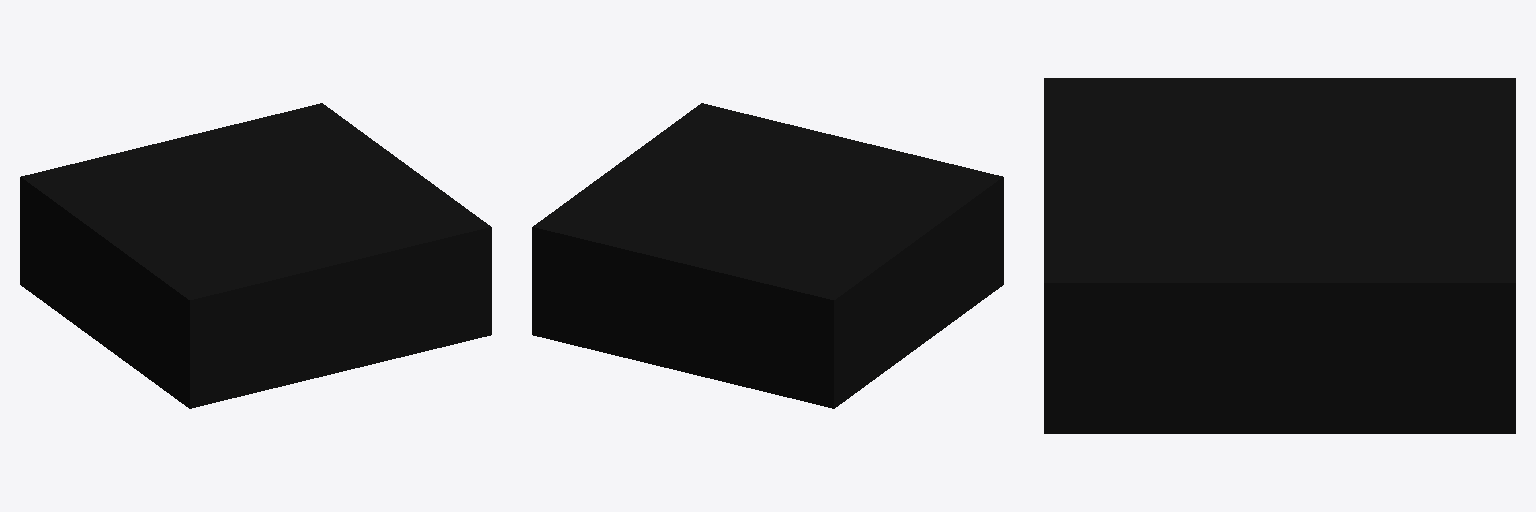
The robot description file, URDF, robot "rosmaster_x3":
<?xml version="1.0" ?>
<!-- =================================================================================== -->
<!-- |    This document was autogenerated by xacro from rosmaster_x3.urdf.xacro        | -->
<!-- |    EDITING THIS FILE BY HAND IS NOT RECOMMENDED                                 | -->
<!-- =================================================================================== -->
<robot name="rosmaster_x3">
  <link name="hi/base_footprint"/>
  <link name="hi/base_link">
    <visual>
      <geometry>
        <mesh filename="file://[local-path]/ros2_ws/install/yahboom_rosmaster_description/share/yahboom_rosmaster_description/meshes/rosmaster_x3/visual/base_link_X3.STL"/>
      </geometry>
      <material name="green">
        <color rgba="0 0.7 0 1"/>
      </material>
      <origin rpy="0 0 0" xyz="0 0 0"/>
    </visual>
    <collision>
      <geometry>
        <box size="0.3 0.1386 0.19724999999999998"/>
      </geometry>
      <origin rpy="0 0 0" xyz="-0.031 0 0.10674999999999998"/>
    </collision>
    <inertial>
      <origin rpy="0 0 0" xyz="-0.031 0 0.10674999999999998"/>
      <mass value="4.6"/>
      <inertia ixx="0.022278383624999995" ixy="0.0" ixz="0.0" iyy="0.04941456562499999" iyz="0.0" izz="0.041863818"/>
    </inertial>
  </link>
  <gazebo reference="hi/base_link">
    <visual>
      <material>
        <ambient>0 0.7 0 1</ambient>
        <diffuse>0 0.7 0 1</diffuse>
        <specular>0 0.7 0 1</specular>
      </material>
    </visual>
  </gazebo>
  <joint name="hi/base_joint" type="fixed">
    <parent link="hi/base_footprint"/>
    <child link="hi/base_link"/>
    <origin rpy="0 0 0" xyz="0 0 0.0325"/>
  </joint>
  <link name="hi/front_left_wheel_link">
    <visual>
      <origin rpy="1.5707963267948966 0 0" xyz="0 0 0"/>
      <geometry>
        <mesh filename="file://[local-path]/ros2_ws/install/yahboom_rosmaster_description/share/yahboom_rosmaster_description/meshes/rosmaster_x3/visual/front_left_wheel_X3.STL"/>
      </geometry>
      <material name="dark_gray">
        <color rgba="0.2 0.2 0.2 1.0"/>
      </material>
    </visual>
    <collision>
      <origin rpy="1.5707963267948966 0 0" xyz="0 0 0"/>
      <geometry>
        <cylinder length="0.0304" radius="0.0325"/>
      </geometry>
    </collision>
    <inertial>
      <origin rpy="0 0 0" xyz="0 0 0"/>
      <mass value="9.1"/>
      <inertia ixx="0.0031037900833333332" ixy="0" ixz="0" iyy="0.0048059375" iyz="0" izz="0.0031037900833333332"/>
    </inertial>
  </link>
  <joint name="hi/front_left_wheel_joint" type="continuous">
    <axis xyz="0 1 0"/>
    <parent link="hi/base_link"/>
    <child link="hi/front_left_wheel_link"/>
    <origin rpy="0 0 0" xyz="0.08 0.07450000000000001 -0.0325"/>
  </joint>
  <gazebo reference="hi/front_left_wheel_link">
    <surface>
      <friction>
        <ode>
          <mu>1.0</mu>
          <mu2>0.0</mu2>
        </ode>
      </friction>
    </surface>
    <visual>
      <material>
        <ambient>0.2 0.2 0.2 1.0</ambient>
        <diffuse>0.2 0.2 0.2 1.0</diffuse>
        <specular>0.2 0.2 0.2 1.0</specular>
        <emissive>0.0 0.0 0.0 0.0</emissive>
      </material>
    </visual>
  </gazebo>
  <link name="hi/front_right_wheel_link">
    <visual>
      <origin rpy="1.5707963267948966 0 0" xyz="0 0 0"/>
      <geometry>
        <mesh filename="file://[local-path]/ros2_ws/install/yahboom_rosmaster_description/share/yahboom_rosmaster_description/meshes/rosmaster_x3/visual/front_right_wheel_X3.STL"/>
      </geometry>
      <material name="dark_gray">
        <color rgba="0.2 0.2 0.2 1.0"/>
      </material>
    </visual>
    <collision>
      <origin rpy="1.5707963267948966 0 0" xyz="0 0 0"/>
      <geometry>
        <cylinder length="0.0304" radius="0.0325"/>
      </geometry>
    </collision>
    <inertial>
      <origin rpy="0 0 0" xyz="0 0 0"/>
      <mass value="9.1"/>
      <inertia ixx="0.0031037900833333332" ixy="0" ixz="0" iyy="0.0048059375" iyz="0" izz="0.0031037900833333332"/>
    </inertial>
  </link>
  <joint name="hi/front_right_wheel_joint" type="continuous">
    <axis xyz="0 1 0"/>
    <parent link="hi/base_link"/>
    <child link="hi/front_right_wheel_link"/>
    <origin rpy="0 0 0" xyz="0.08 -0.07450000000000001 -0.0325"/>
  </joint>
  <gazebo reference="hi/front_right_wheel_link">
    <surface>
      <friction>
        <ode>
          <mu>1.0</mu>
          <mu2>0.0</mu2>
        </ode>
      </friction>
    </surface>
    <visual>
      <material>
        <ambient>0.2 0.2 0.2 1.0</ambient>
        <diffuse>0.2 0.2 0.2 1.0</diffuse>
        <specular>0.2 0.2 0.2 1.0</specular>
        <emissive>0.0 0.0 0.0 0.0</emissive>
      </material>
    </visual>
  </gazebo>
  <link name="hi/back_left_wheel_link">
    <visual>
      <origin rpy="1.5707963267948966 0 0" xyz="0 0 0"/>
      <geometry>
        <mesh filename="file://[local-path]/ros2_ws/install/yahboom_rosmaster_description/share/yahboom_rosmaster_description/meshes/rosmaster_x3/visual/back_left_wheel_X3.STL"/>
      </geometry>
      <material name="dark_gray">
        <color rgba="0.2 0.2 0.2 1.0"/>
      </material>
    </visual>
    <collision>
      <origin rpy="1.5707963267948966 0 0" xyz="0 0 0"/>
      <geometry>
        <cylinder length="0.0304" radius="0.0325"/>
      </geometry>
    </collision>
    <inertial>
      <origin rpy="0 0 0" xyz="0 0 0"/>
      <mass value="9.1"/>
      <inertia ixx="0.0031037900833333332" ixy="0" ixz="0" iyy="0.0048059375" iyz="0" izz="0.0031037900833333332"/>
    </inertial>
  </link>
  <joint name="hi/back_left_wheel_joint" type="continuous">
    <axis xyz="0 1 0"/>
    <parent link="hi/base_link"/>
    <child link="hi/back_left_wheel_link"/>
    <origin rpy="0 0 0" xyz="-0.08 0.07450000000000001 -0.0325"/>
  </joint>
  <gazebo reference="hi/back_left_wheel_link">
    <surface>
      <friction>
        <ode>
          <mu>1.0</mu>
          <mu2>0.0</mu2>
        </ode>
      </friction>
    </surface>
    <visual>
      <material>
        <ambient>0.2 0.2 0.2 1.0</ambient>
        <diffuse>0.2 0.2 0.2 1.0</diffuse>
        <specular>0.2 0.2 0.2 1.0</specular>
        <emissive>0.0 0.0 0.0 0.0</emissive>
      </material>
    </visual>
  </gazebo>
  <link name="hi/back_right_wheel_link">
    <visual>
      <origin rpy="1.5707963267948966 0 0" xyz="0 0 0"/>
      <geometry>
        <mesh filename="file://[local-path]/ros2_ws/install/yahboom_rosmaster_description/share/yahboom_rosmaster_description/meshes/rosmaster_x3/visual/back_right_wheel_X3.STL"/>
      </geometry>
      <material name="dark_gray">
        <color rgba="0.2 0.2 0.2 1.0"/>
      </material>
    </visual>
    <collision>
      <origin rpy="1.5707963267948966 0 0" xyz="0 0 0"/>
      <geometry>
        <cylinder length="0.0304" radius="0.0325"/>
      </geometry>
    </collision>
    <inertial>
      <origin rpy="0 0 0" xyz="0 0 0"/>
      <mass value="9.1"/>
      <inertia ixx="0.0031037900833333332" ixy="0" ixz="0" iyy="0.0048059375" iyz="0" izz="0.0031037900833333332"/>
    </inertial>
  </link>
  <joint name="hi/back_right_wheel_joint" type="continuous">
    <axis xyz="0 1 0"/>
    <parent link="hi/base_link"/>
    <child link="hi/back_right_wheel_link"/>
    <origin rpy="0 0 0" xyz="-0.08 -0.07450000000000001 -0.0325"/>
  </joint>
  <gazebo reference="hi/back_right_wheel_link">
    <surface>
      <friction>
        <ode>
          <mu>1.0</mu>
          <mu2>0.0</mu2>
        </ode>
      </friction>
    </surface>
    <visual>
      <material>
        <ambient>0.2 0.2 0.2 1.0</ambient>
        <diffuse>0.2 0.2 0.2 1.0</diffuse>
        <specular>0.2 0.2 0.2 1.0</specular>
        <emissive>0.0 0.0 0.0 0.0</emissive>
      </material>
    </visual>
  </gazebo>
  <link name="hi/cam_1_link">
    <visual>
      <origin rpy="1.5707963267948966 0.0 1.5707963267948966" xyz="0 0 0"/>
      <geometry>
        <mesh filename="file://[local-path]/ros2_ws/install/yahboom_rosmaster_description/share/yahboom_rosmaster_description/meshes/intel_realsense/visual/d435.stl"/>
      </geometry>
      <material name="aluminum">
        <color rgba="0.5 0.5 0.5 1"/>
      </material>
    </visual>
    <inertial>
      <mass value="0.072"/>
      <origin rpy="0 0 0" xyz="0 0 0"/>
      <inertia ixx="0.003881243" ixy="0.0" ixz="0.0" iyy="0.00049894" iyz="0.0" izz="0.003879257"/>
    </inertial>
  </link>
  <joint name="hi/cam_1_joint" type="fixed">
    <parent link="hi/base_link"/>
    <child link="hi/cam_1_link"/>
    <origin rpy="0 -0.50 0" xyz="0.105 0 0.05"/>
  </joint>
  <joint name="hi/cam_1_depth_joint" type="fixed">
    <origin rpy="0 0 0" xyz="0 0 0"/>
    <parent link="hi/cam_1_link"/>
    <child link="hi/cam_1_depth_frame"/>
  </joint>
  <link name="hi/cam_1_depth_frame"/>
  <joint name="hi/cam_1_depth_optical_joint" type="fixed">
    <origin rpy="-1.5707963267948966 0 -1.5707963267948966" xyz="0 0 0"/>
    <parent link="hi/cam_1_depth_frame"/>
    <child link="hi/cam_1_depth_optical_frame"/>
  </joint>
  <link name="hi/cam_1_depth_optical_frame"/>
  <joint name="hi/cam_1_infra1_joint" type="fixed">
    <origin rpy="0 0 0" xyz="0 0 0"/>
    <parent link="hi/cam_1_link"/>
    <child link="hi/cam_1_infra1_frame"/>
  </joint>
  <link name="hi/cam_1_infra1_frame"/>
  <joint name="hi/cam_1_infra1_optical_joint" type="fixed">
    <origin rpy="-1.5707963267948966 0 -1.5707963267948966" xyz="0 0 0"/>
    <parent link="hi/cam_1_infra1_frame"/>
    <child link="hi/cam_1_infra1_optical_frame"/>
  </joint>
  <link name="hi/cam_1_infra1_optical_frame"/>
  <joint name="hi/cam_1_infra2_joint" type="fixed">
    <origin rpy="0 0 0" xyz="0 -0.05 0"/>
    <parent link="hi/cam_1_link"/>
    <child link="hi/cam_1_infra2_frame"/>
  </joint>
  <link name="hi/cam_1_infra2_frame"/>
  <joint name="hi/cam_1_infra2_optical_joint" type="fixed">
    <origin rpy="-1.5707963267948966 0 -1.5707963267948966" xyz="0 0 0"/>
    <parent link="hi/cam_1_infra2_frame"/>
    <child link="hi/cam_1_infra2_optical_frame"/>
  </joint>
  <link name="hi/cam_1_infra2_optical_frame"/>
  <joint name="hi/cam_1_color_joint" type="fixed">
    <origin rpy="0 0 0" xyz="0 0.015 0"/>
    <parent link="hi/cam_1_link"/>
    <child link="hi/cam_1_color_frame"/>
  </joint>
  <link name="hi/cam_1_color_frame"/>
  <joint name="hi/cam_1_color_optical_joint" type="fixed">
    <origin rpy="-1.5707963267948966 0 -1.5707963267948966" xyz="0 0 0"/>
    <parent link="hi/cam_1_color_frame"/>
    <child link="hi/cam_1_color_optical_frame"/>
  </joint>
  <link name="hi/cam_1_color_optical_frame"/>
  <gazebo reference="hi/cam_1_link">
    <sensor name="hi/cam_1" type="rgbd_camera">
      <camera>
        <horizontal_fov>1.5184</horizontal_fov>
        <image>
          <width>424</width>
          <height>240</height>
        </image>
        <clip>
          <near>0.05</near>
          <far>1.5</far>
        </clip>
      </camera>
      <always_on>1</always_on>
      <gz_frame_id>hi/cam_1_depth_optical_frame</gz_frame_id>
      <topic>cam_1</topic>
      <update_rate>2</update_rate>
      <visualize>True</visualize>
    </sensor>
  </gazebo>
  <link name="hi/laser_frame">
    <visual>
      <origin rpy="-1.5707963267948966 0 0" xyz="0 0 0"/>
      <geometry>
        <mesh filename="file://[local-path]/ros2_ws/install/yahboom_rosmaster_description/share/yahboom_rosmaster_description/meshes/rplidar/rplidar_s2.stl" scale="0.001 0.001 0.001"/>
      </geometry>
      <material name="rplidar_black">
        <color rgba="0.1 0.1 0.1 1"/>
      </material>
    </visual>
    <inertial>
      <mass value="0.185"/>
      <origin rpy="0 0 0" xyz="0 0 0"/>
      <inertia ixx="9.297467916666665e-05" ixy="0.0" ixz="0.0" iyy="9.297467916666665e-05" iyz="0.0" izz="0.000137108125"/>
    </inertial>
  </link>
  <joint name="hi/laser_frame_joint" type="fixed">
    <parent link="hi/base_link"/>
    <child link="hi/laser_frame"/>
    <origin rpy="0 0 0" xyz="0 0 0.0825"/>
  </joint>
  <gazebo reference="hi/laser_frame">
    <material>
      <ambient>0.1 0.1 0.1 1</ambient>
      <diffuse>0.1 0.1 0.1 1</diffuse>
      <specular>0.1 0.1 0.1 1</specular>
    </material>
    <sensor name="hi/lidar_sensor" type="gpu_lidar">
      <topic>scan</topic>
      <update_rate>10</update_rate>
      <always_on>True</always_on>
      <visualize>False</visualize>
      <ray>
        <scan>
          <horizontal>
            <samples>720</samples>
            <resolution>1</resolution>
            <min_angle>-3.14159</min_angle>
            <max_angle>3.14159</max_angle>
          </horizontal>
          <vertical>
            <samples>1</samples>
            <resolution>1</resolution>
            <min_angle>0</min_angle>
            <max_angle>0</max_angle>
          </vertical>
        </scan>
        <range>
          <min>0.20</min>
          <max>30.0</max>
          <resolution>0.013</resolution>
        </range>
      </ray>
      <gz_frame_id>hi/laser_frame</gz_frame_id>
    </sensor>
  </gazebo>
  <link name="hi/imu_link">
    <visual>
      <origin rpy="0 0 0" xyz="0 0 0"/>
      <geometry>
        <box size="0.03899 0.03785 0.01338"/>
      </geometry>
      <material name="imu_black">
        <color rgba="0.1 0.1 0.1 1"/>
      </material>
    </visual>
    <inertial>
      <mass value="0.031"/>
      <origin rpy="0 0 0" xyz="0 0 0"/>
      <inertia ixx="4.163421158333333e-06" ixy="0.0" ixz="0.0" iyy="4.389714958333333e-06" iyz="0.0" izz="7.6281767166666665e-06"/>
    </inertial>
  </link>
  <joint name="hi/imu_joint" type="fixed">
    <parent link="hi/base_link"/>
    <child link="hi/imu_link"/>
    <origin rpy="0 0 0" xyz="0 0 0.006"/>
  </joint>
  <gazebo reference="hi/imu_link">
    <material>
      <ambient>0.1 0.1 0.1 1</ambient>
      <diffuse>0.1 0.1 0.1 1</diffuse>
      <specular>0.1 0.1 0.1 1</specular>
    </material>
    <sensor name="hi/imu_sensor" type="imu">
      <topic>imu/data</topic>
      <update_rate>15.0</update_rate>
      <always_on>True</always_on>
      <visualize>False</visualize>
      <gz_frame_id>hi/imu_link</gz_frame_id>
    </sensor>
  </gazebo>
  <ros2_control name="RobotSystem" type="system">
    <hardware>
    </hardware>
    <joint name="hi/front_left_wheel_joint">
      <command_interface name="velocity">
        <param name="min">-50.0</param>
        <param name="max">50.0</param>
      </command_interface>
      <state_interface name="position"/>
      <state_interface name="velocity"/>
    </joint>
    <joint name="hi/front_right_wheel_joint">
      <command_interface name="velocity">
        <param name="min">-50.0</param>
        <param name="max">50.0</param>
      </command_interface>
      <state_interface name="position"/>
      <state_interface name="velocity"/>
    </joint>
    <joint name="hi/back_left_wheel_joint">
      <command_interface name="velocity">
        <param name="min">-50.0</param>
        <param name="max">50.0</param>
      </command_interface>
      <state_interface name="position"/>
      <state_interface name="velocity"/>
    </joint>
    <joint name="hi/back_right_wheel_joint">
      <command_interface name="velocity">
        <param name="min">-50.0</param>
        <param name="max">50.0</param>
      </command_interface>
      <state_interface name="position"/>
      <state_interface name="velocity"/>
    </joint>
  </ros2_control>
</robot>

--- Facts derived from the render (not from the file) ---
3 views of the same robot in one strip: view 1: azimuth 30°, elevation 25°; view 2: azimuth 150°, elevation 25°; view 3: azimuth 270°, elevation 25° (orthographic).
Model rosmaster_x3 with 17 links and 16 joints (4 continuous, 12 fixed), rooted at hi/base_footprint, posed every joint at zero.
Links seen in each view (by area): view 1: hi/imu_link; view 2: hi/imu_link; view 3: hi/imu_link.
Boxes of the visible links, box(x1,y1,x2,y2) form: hi/imu_link: box(20, 103, 491, 408); hi/imu_link: box(532, 103, 1003, 408); hi/imu_link: box(1044, 78, 1515, 433).
Bounding box of the posed robot: 0.039 × 0.0378 × 0.0134 m (x, y, z).
Geometry: only primitive shapes (box / cylinder / sphere) drawn; not drawn: 7 mesh visuals (reference in a form the renderer does not follow).